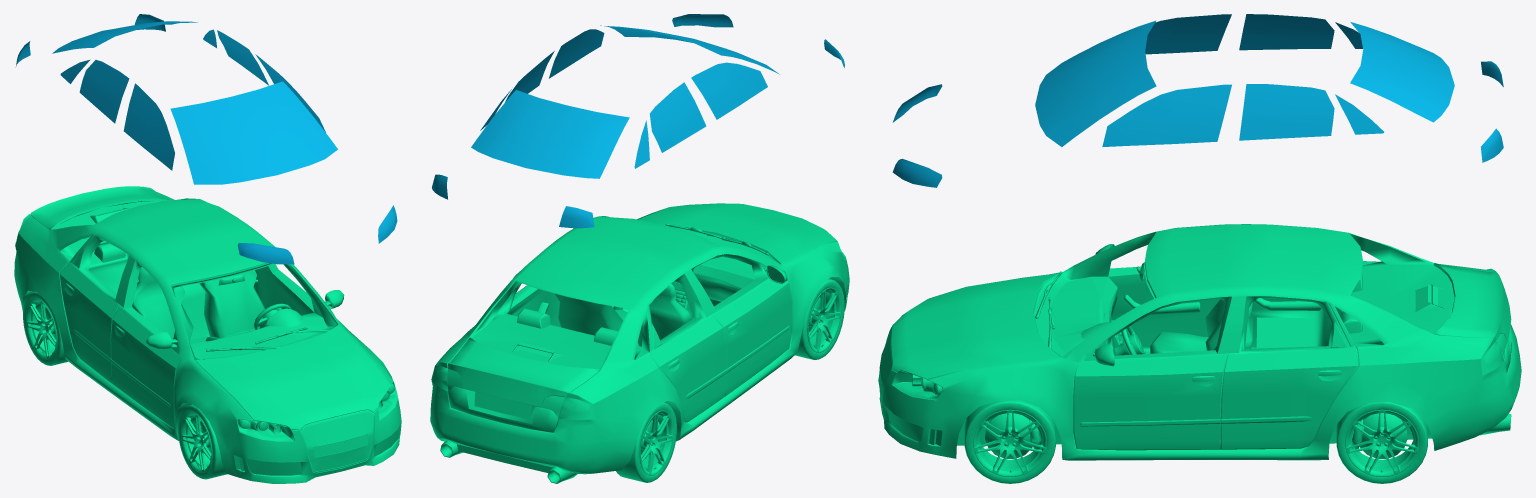
Rendered from Audi.fbx.
3 views of the same model, side by side, from view 1: azimuth 30°, elevation 25°; view 2: azimuth 150°, elevation 25°; view 3: azimuth 270°, elevation 25° (orthographic). The views are drawn at different scales.
Visible parts, largest first — view 1: Corpuse, Glass, Seats, wheels, Corpuse.002, bagadgnik; view 2: Corpuse, Glass, bagadgnik, wheels, Seats, Corpuse.002; view 3: Corpuse, Glass, wheels, bagadgnik, Corpuse.002, brake, Seats.
Boxes of the visible parts, x1=… form: Corpuse: x1=14, y1=186, x2=401, y2=483; Glass: x1=15, y1=14, x2=397, y2=264; Seats: x1=132, y1=267, x2=264, y2=341; wheels: x1=23, y1=291, x2=227, y2=479; Corpuse.002: x1=190, y1=308, x2=327, y2=358; bagadgnik: x1=30, y1=186, x2=170, y2=229; Corpuse: x1=430, y1=203, x2=849, y2=483; Glass: x1=432, y1=14, x2=844, y2=228; bagadgnik: x1=447, y1=337, x2=599, y2=432; wheels: x1=616, y1=279, x2=844, y2=482; Seats: x1=555, y1=283, x2=692, y2=346; Corpuse.002: x1=693, y1=256, x2=755, y2=301; Corpuse: x1=878, y1=224, x2=1521, y2=460; Glass: x1=892, y1=14, x2=1503, y2=187; wheels: x1=964, y1=400, x2=1427, y2=483; bagadgnik: x1=1433, y1=263, x2=1511, y2=372; Corpuse.002: x1=1048, y1=276, x2=1117, y2=355; brake: x1=985, y1=413, x2=1407, y2=458; Seats: x1=1150, y1=299, x2=1252, y2=353.
Bounding box in the file's own units: 190 × 295 × 450.
